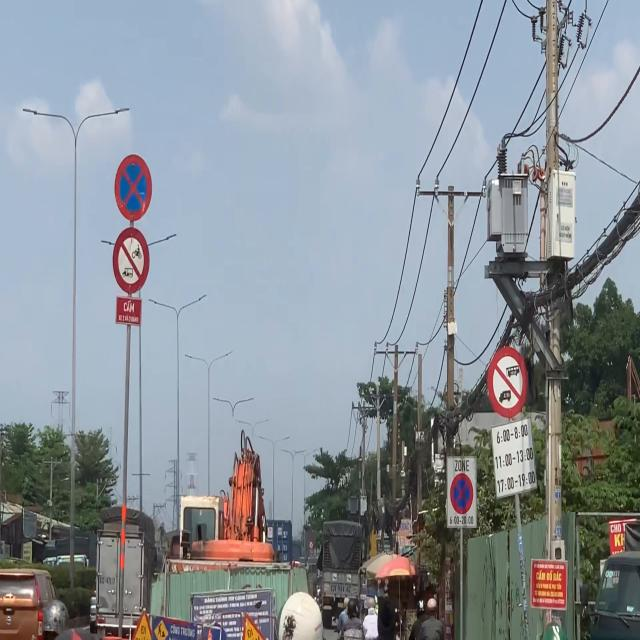Cam dung va do: (114, 154, 152, 222), (450, 473, 473, 514)
